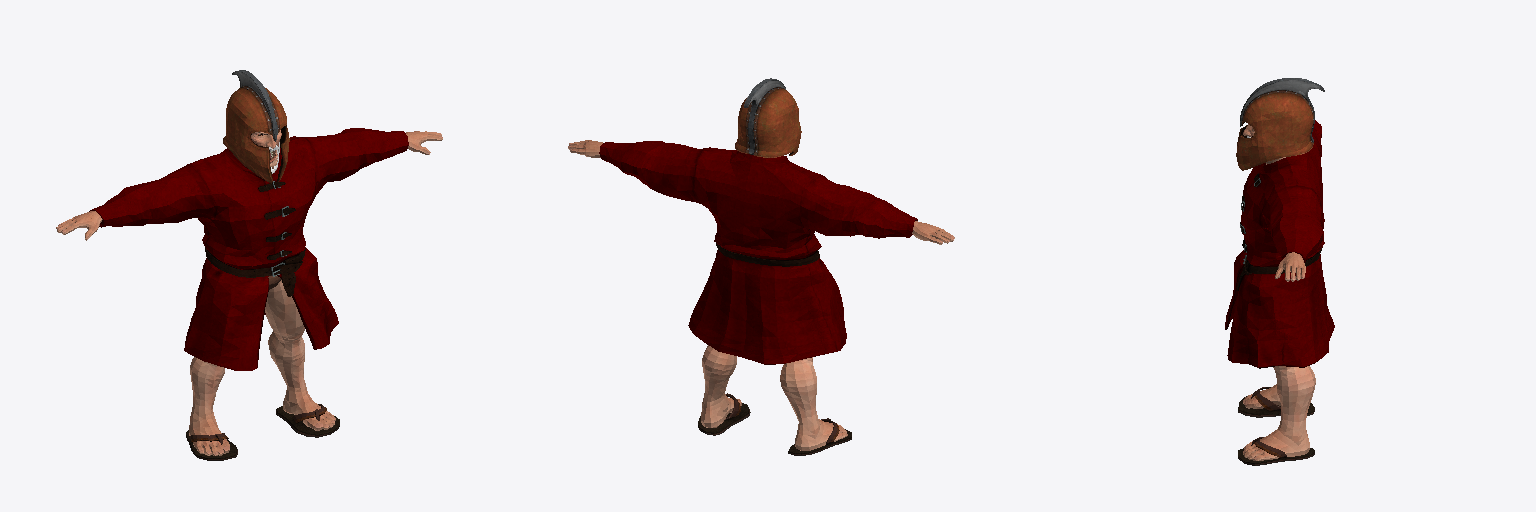
3 renders of one model, left to right at view 1: azimuth 30°, elevation 25°; view 2: azimuth 150°, elevation 25°; view 3: azimuth 270°, elevation 25°, orthographic.
Parts seen in each view (by area): view 1: Tops, Body, Hats, Shoes; view 2: Tops, Body, Hats, Shoes; view 3: Tops, Hats, Body, Shoes.
Boxes of the visible parts, x1,y1,x2,y2 form: Tops: [89, 128, 408, 370]; Body: [56, 130, 442, 455]; Hats: [223, 70, 289, 183]; Shoes: [186, 404, 339, 460]; Tops: [599, 141, 917, 364]; Body: [568, 140, 954, 450]; Hats: [735, 78, 801, 157]; Shoes: [698, 393, 851, 455]; Tops: [1225, 120, 1334, 368]; Hats: [1236, 78, 1324, 170]; Body: [1243, 124, 1315, 460]; Shoes: [1238, 387, 1314, 465].
Bounding box in the file's own units: 172 × 151 × 42.78.
7 materials, 5 textured.